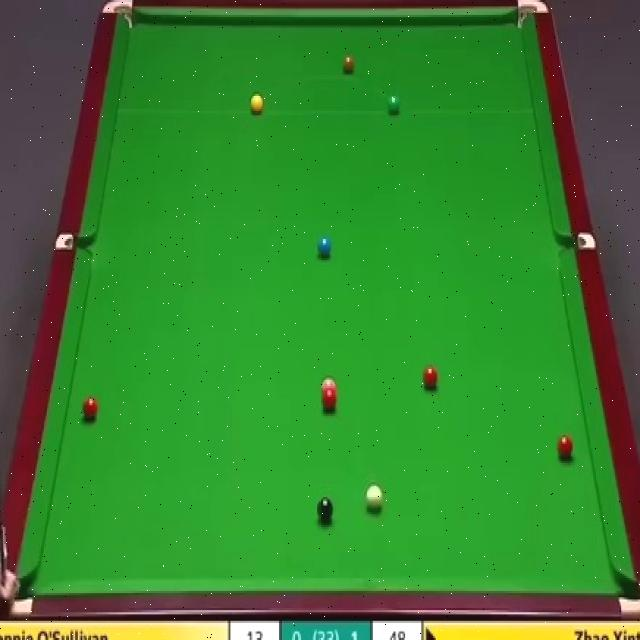black-ball: (315, 497, 336, 523)
blue-ball: (318, 238, 330, 260)
brown-ball: (340, 55, 356, 75)
green-ball: (386, 92, 400, 115)
pink-ball: (320, 377, 339, 390)
red-ball: (554, 432, 574, 462), (80, 398, 98, 422), (321, 390, 338, 415), (422, 366, 438, 389)
white-ball: (365, 483, 383, 512)
yellow-ball: (249, 93, 263, 115)
